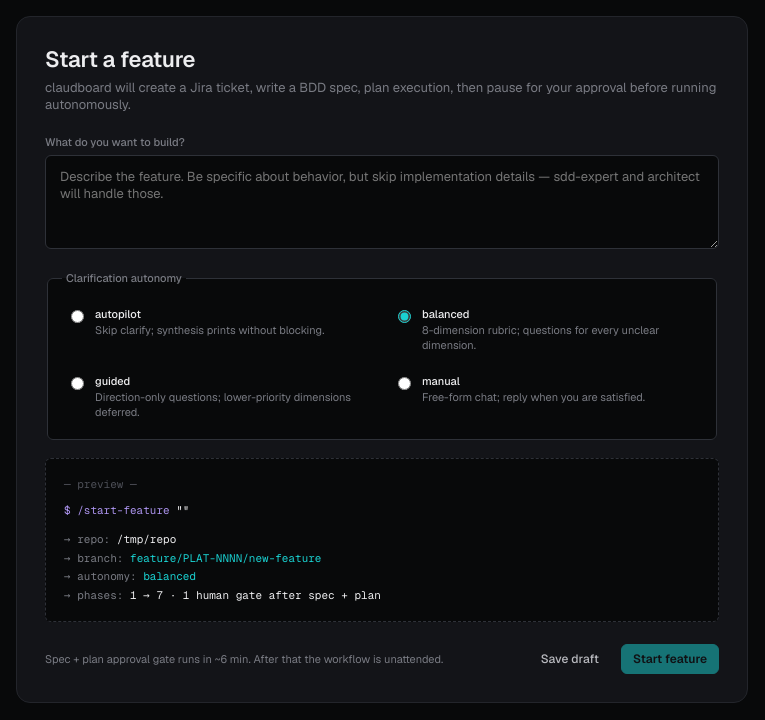
Scenario: Kickoff branch preview project key › updates the slug live while the project key stays stable
Check: the radio button labelled "balanced" is shown, box [398,310,411,323]
Replace the text in the text box with placeholder "Describe the feature" with "Migrate scheduler off Quartz" at (382, 202), box [45,155,719,249]
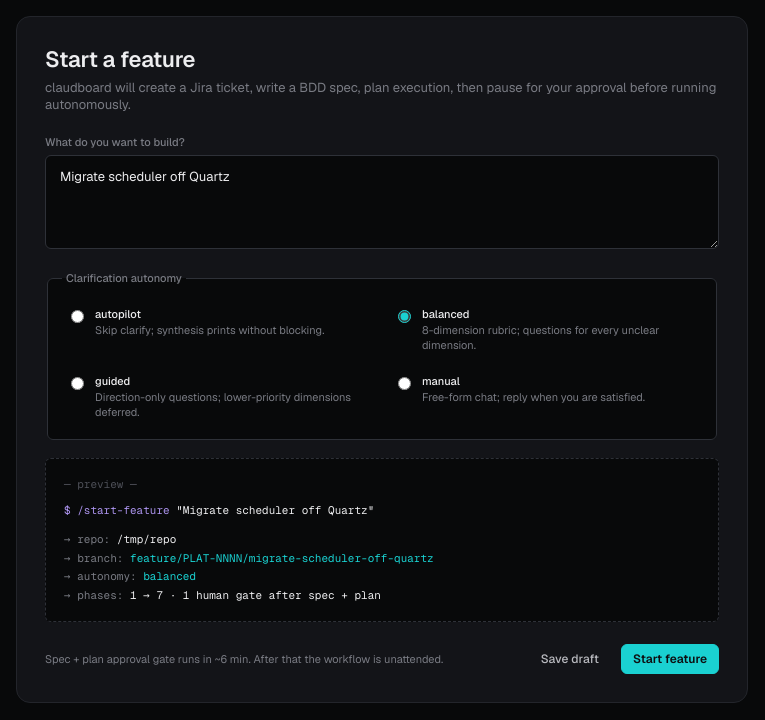
Check: the element with class "kickoff__preview" shows "feature/PLAT-NNNN/migrate-scheduler-off-quartz", box [45,458,719,622]
